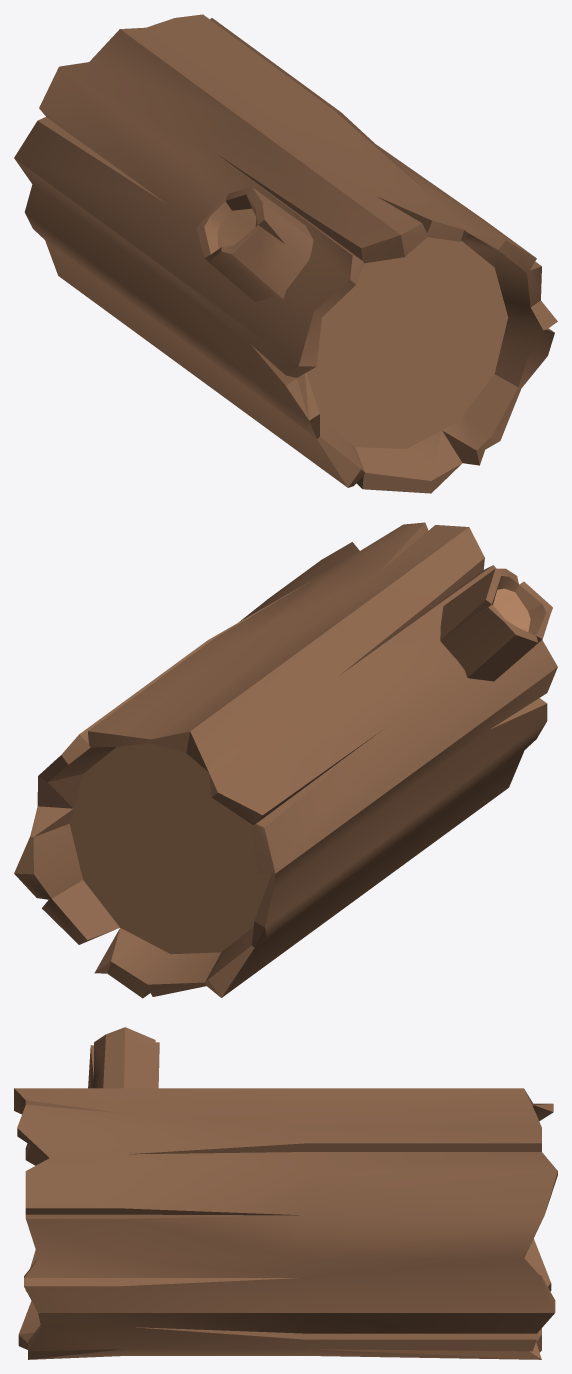
File: Log_2.fbx
3 renders of one model, top to bottom at view 1: azimuth 30°, elevation 25°; view 2: azimuth 150°, elevation 25°; view 3: azimuth 270°, elevation 25°, orthographic. The views are drawn at different scales.
Parts seen in each view (by area): view 1: Log_2; view 2: Log_2; view 3: Log_2.
Part boxes in pixels (<box>): Log_2: <box>14,14,557,493</box>; Log_2: <box>14,522,557,998</box>; Log_2: <box>14,1027,557,1359</box>.
Size of the model in its own units: 43.9 by 41.99 by 77.24.
